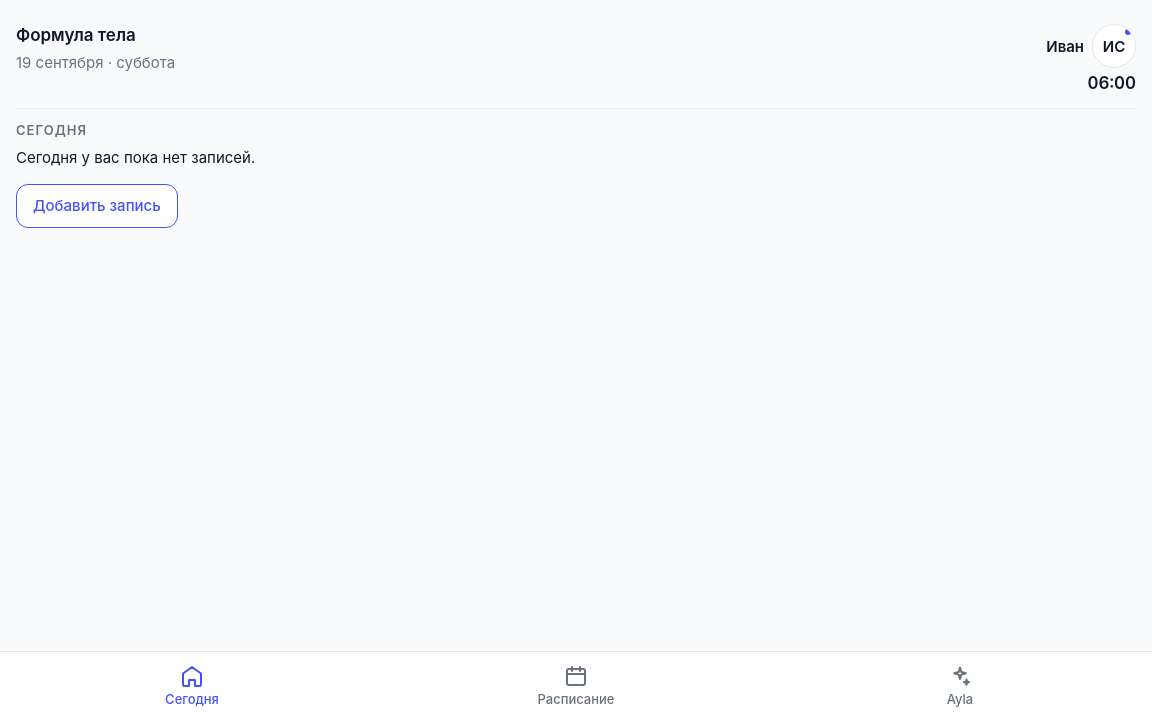
аватар мастера на всех трёх разделах (DRF-2121, §28 п.3) › пункт studio ведёт на свой экран
This screenshot has width=1152, height=720.
What coordinates should you click on to do the following:
click the button with aria-label "Меню профиля"
I would click on:
 (1114, 46)
Its box is [1092,24,1136,68].
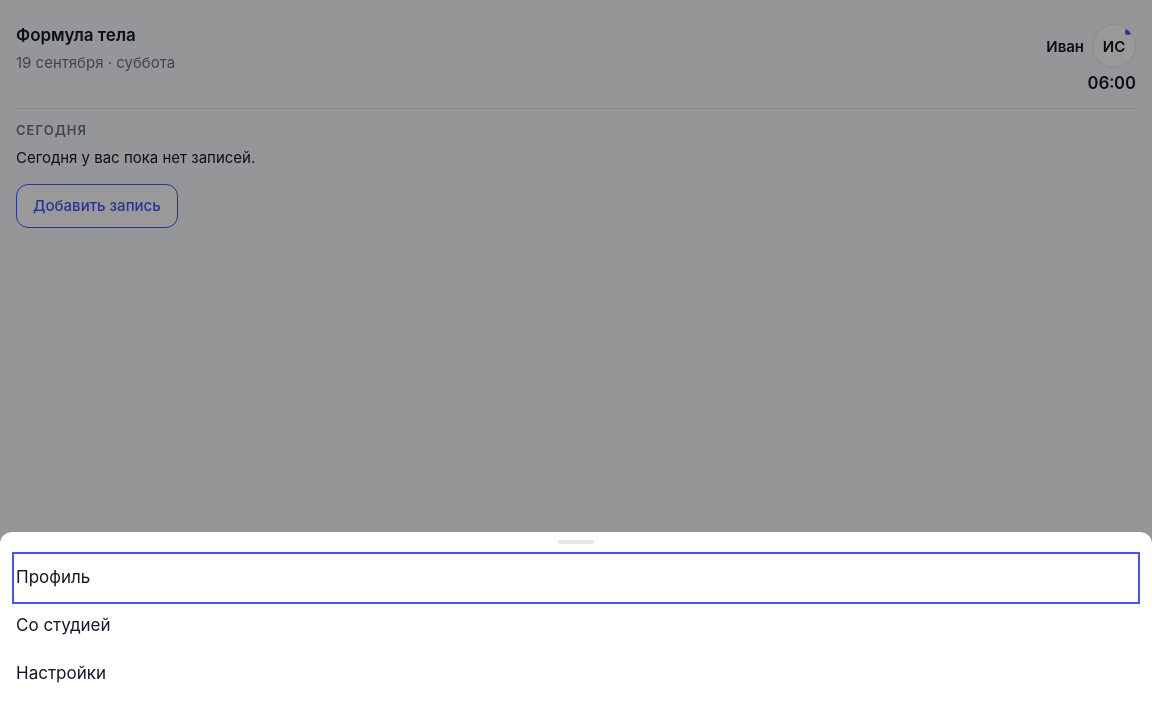
What coordinates should you click on to do the following:
click the button "Со студией"
I would click on:
 (63, 625)
Its box is [16,604,1136,648].
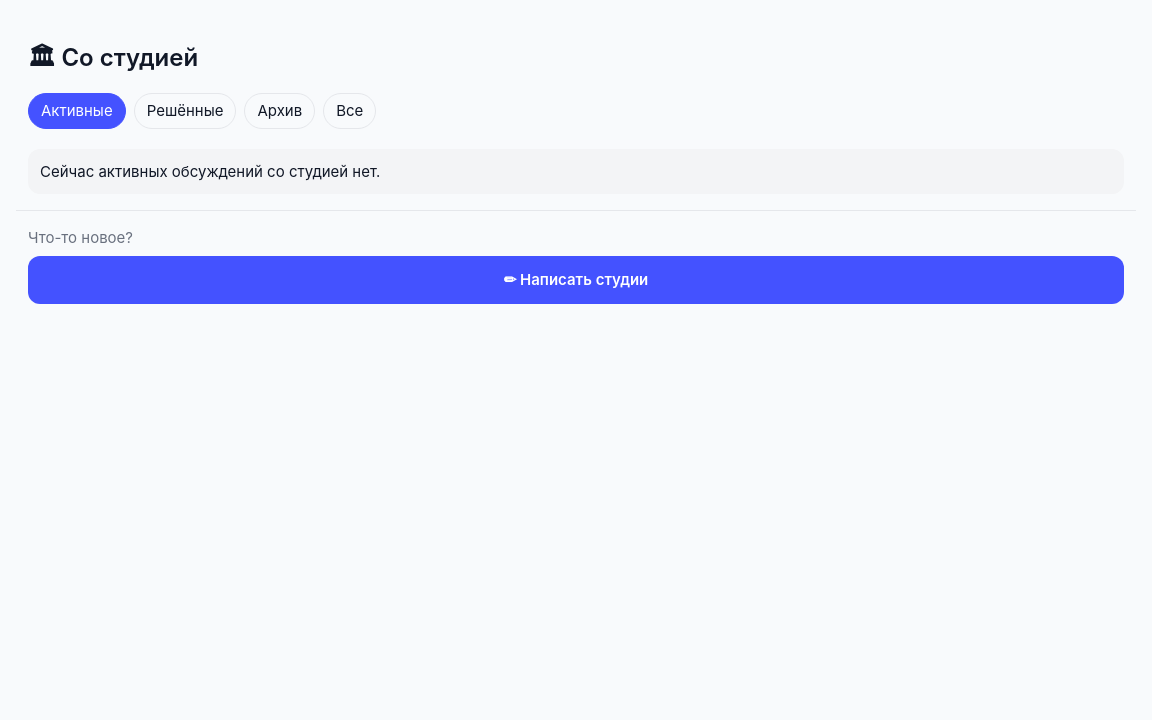
Now the heading "🏛 Со студией" is shown, box [28,43,198,72]
